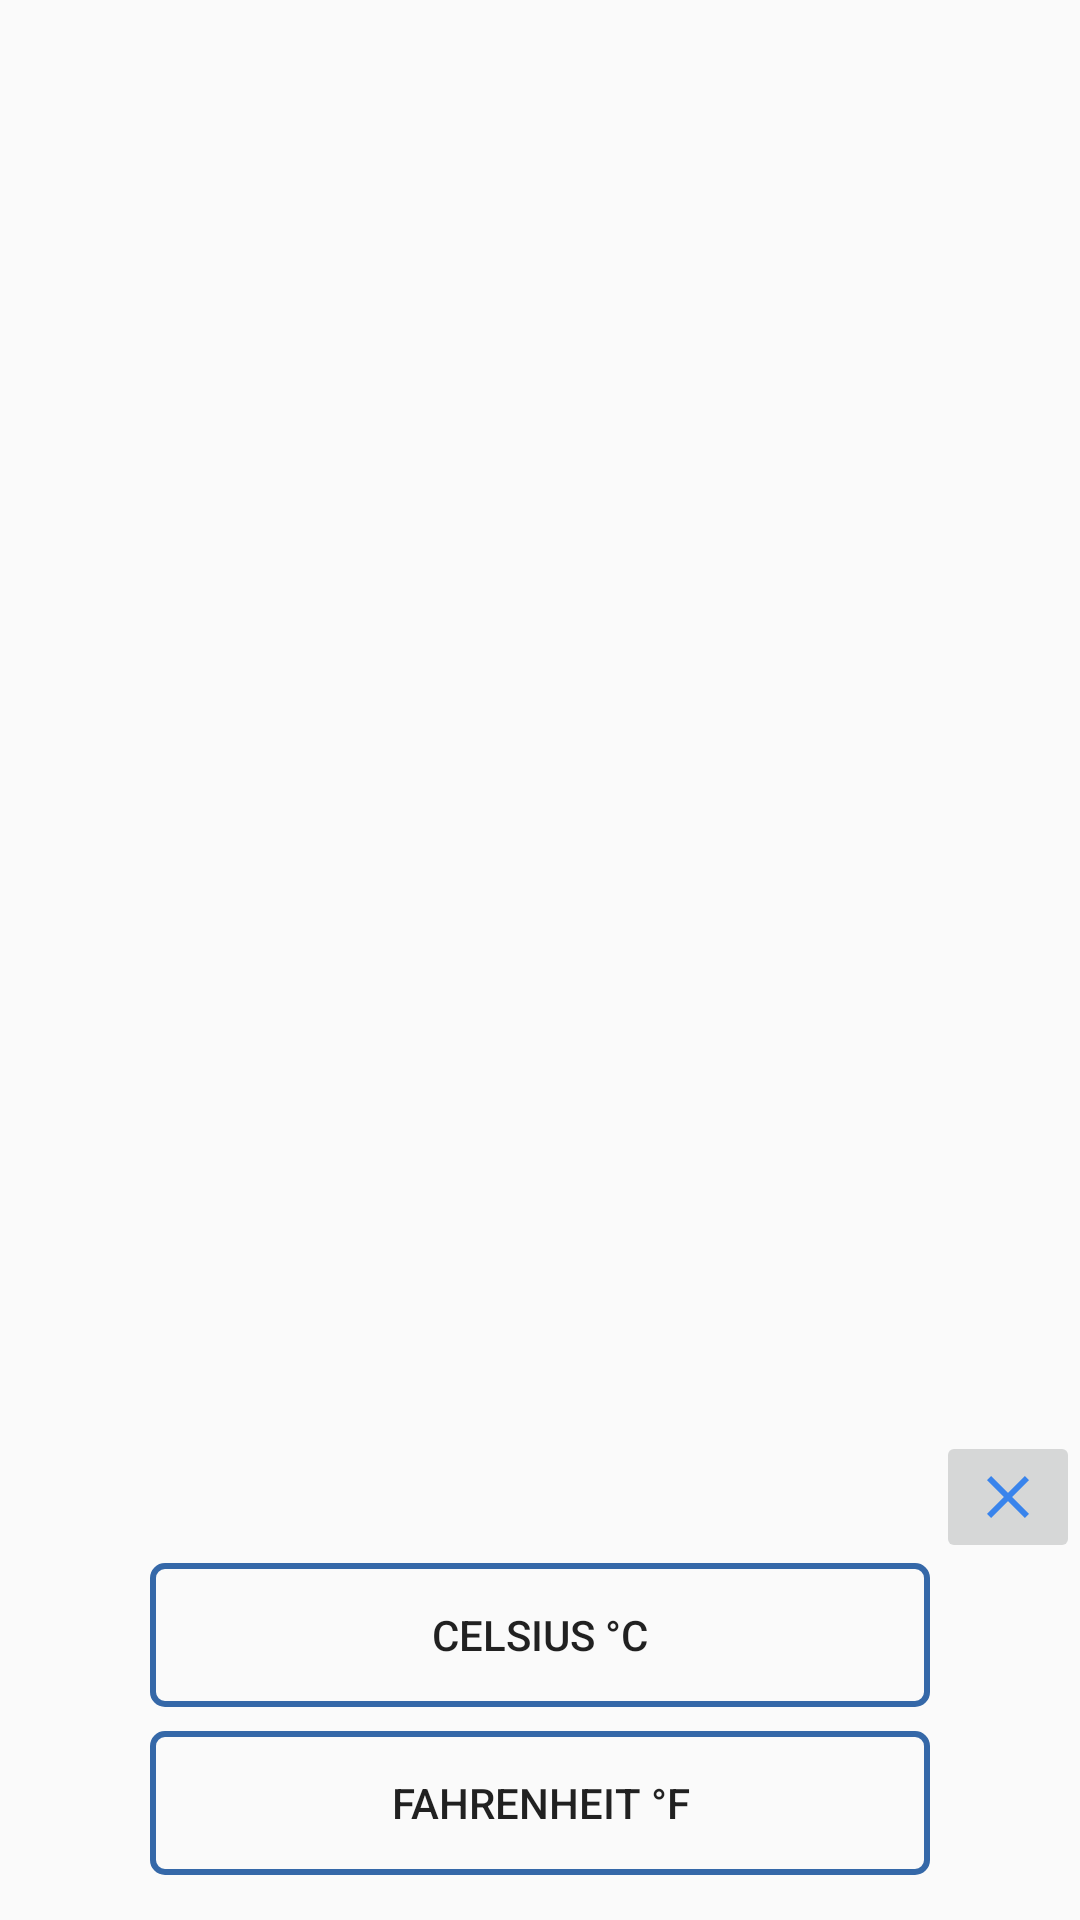

Icon click points for this 1080px x 1920px phone screenshot, format [x,y]:
close: [1008,1497]
